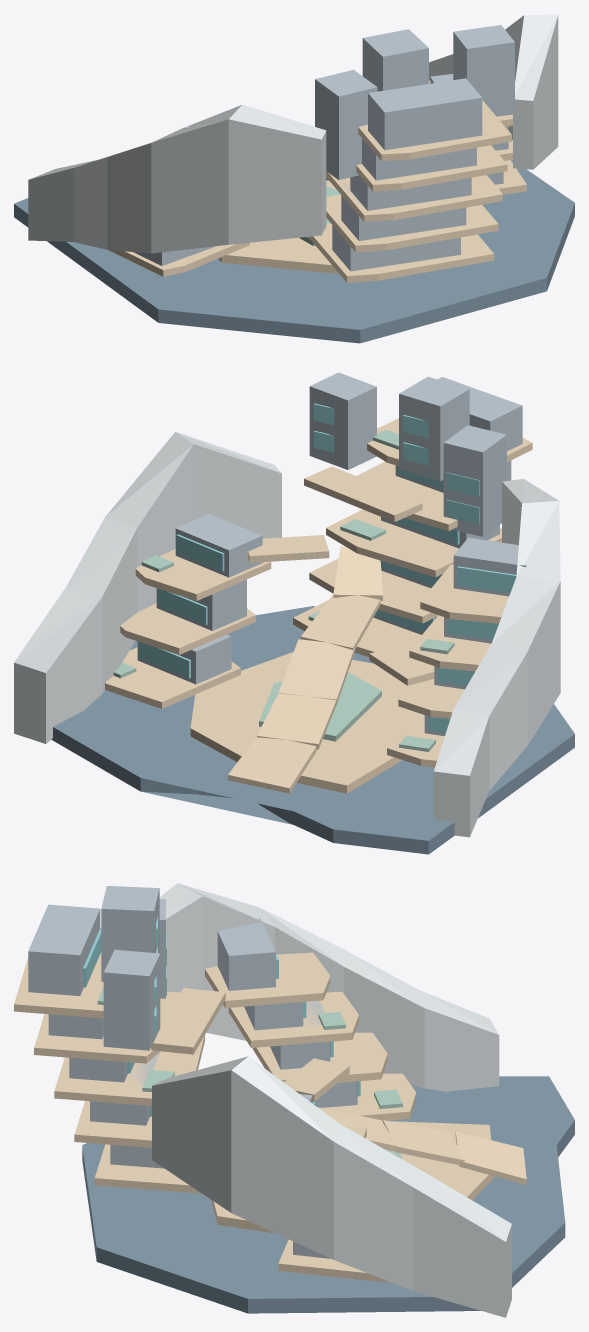
The model's file is a31_civic_valley.glb.
3 views of the same model, one above another, from view 1: azimuth 30°, elevation 25°; view 2: azimuth 150°, elevation 25°; view 3: azimuth 270°, elevation 25° (orthographic). The views are drawn at different scales.
Size of the model in its own units: 344 by 200 by 348.
